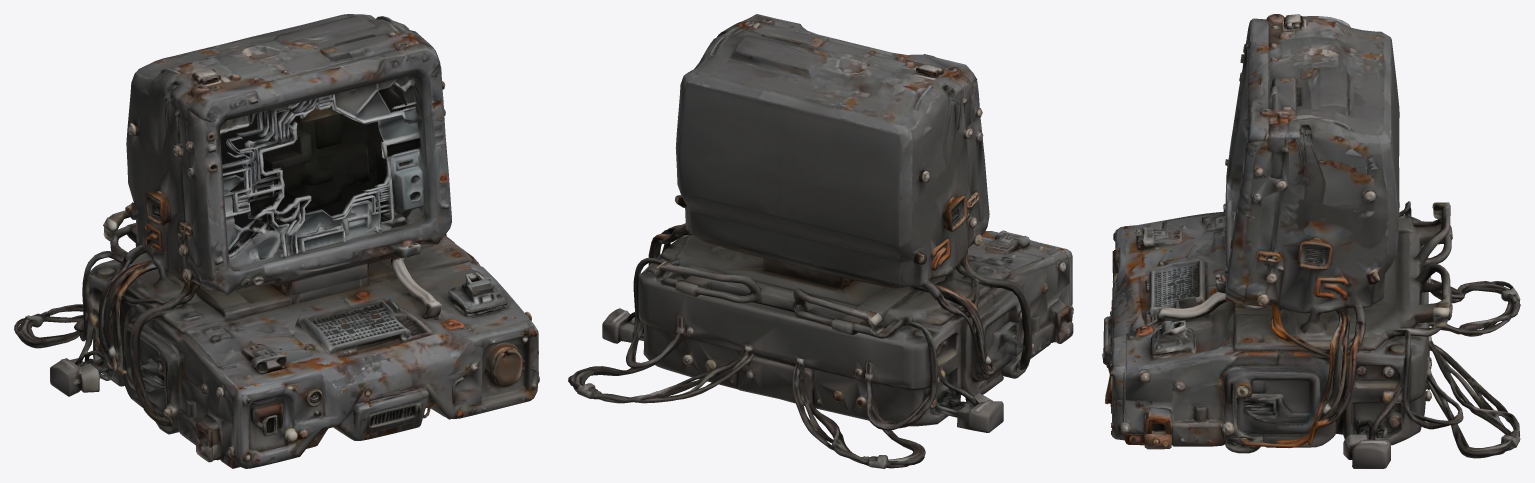
Rendered from Terminal.fbx.
3 views of the same model, side by side, from view 1: azimuth 30°, elevation 25°; view 2: azimuth 150°, elevation 25°; view 3: azimuth 270°, elevation 25° (orthographic). The views are drawn at different scales.
Parts seen in each view (by area): view 1: tripo_node_8fe1ac71; view 2: tripo_node_8fe1ac71; view 3: tripo_node_8fe1ac71.
Part boxes in pixels (left/top/right/bottom): tripo_node_8fe1ac71: left=14, top=14, right=539, bottom=468; tripo_node_8fe1ac71: left=568, top=14, right=1073, bottom=468; tripo_node_8fe1ac71: left=1102, top=14, right=1520, bottom=468.
Bounding box in the file's own units: 98.28 × 90.85 × 75.75.
1 material, 1 textured.
